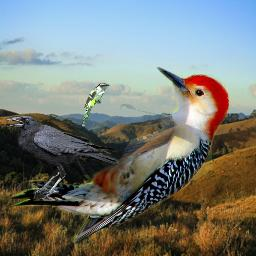Crow: (6, 115, 119, 199)
Cuckoo: (82, 83, 110, 126)
Woodpecker: (8, 67, 230, 246)
